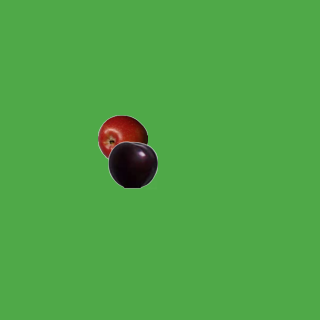Apple Braeburn: (97, 114, 147, 164)
Cherry Wax Black: (107, 139, 157, 189)
